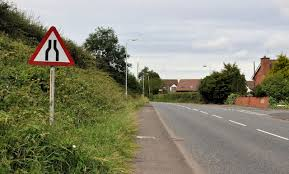narrow-road: (29, 26, 72, 66)
